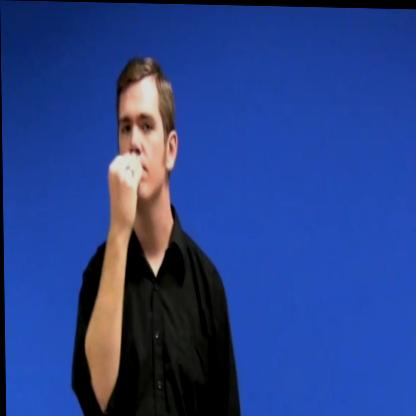Food: (98, 53, 189, 244)
